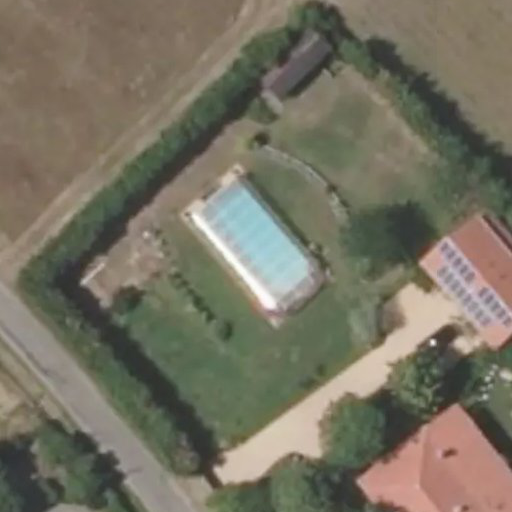pool: (207, 221, 315, 272)
